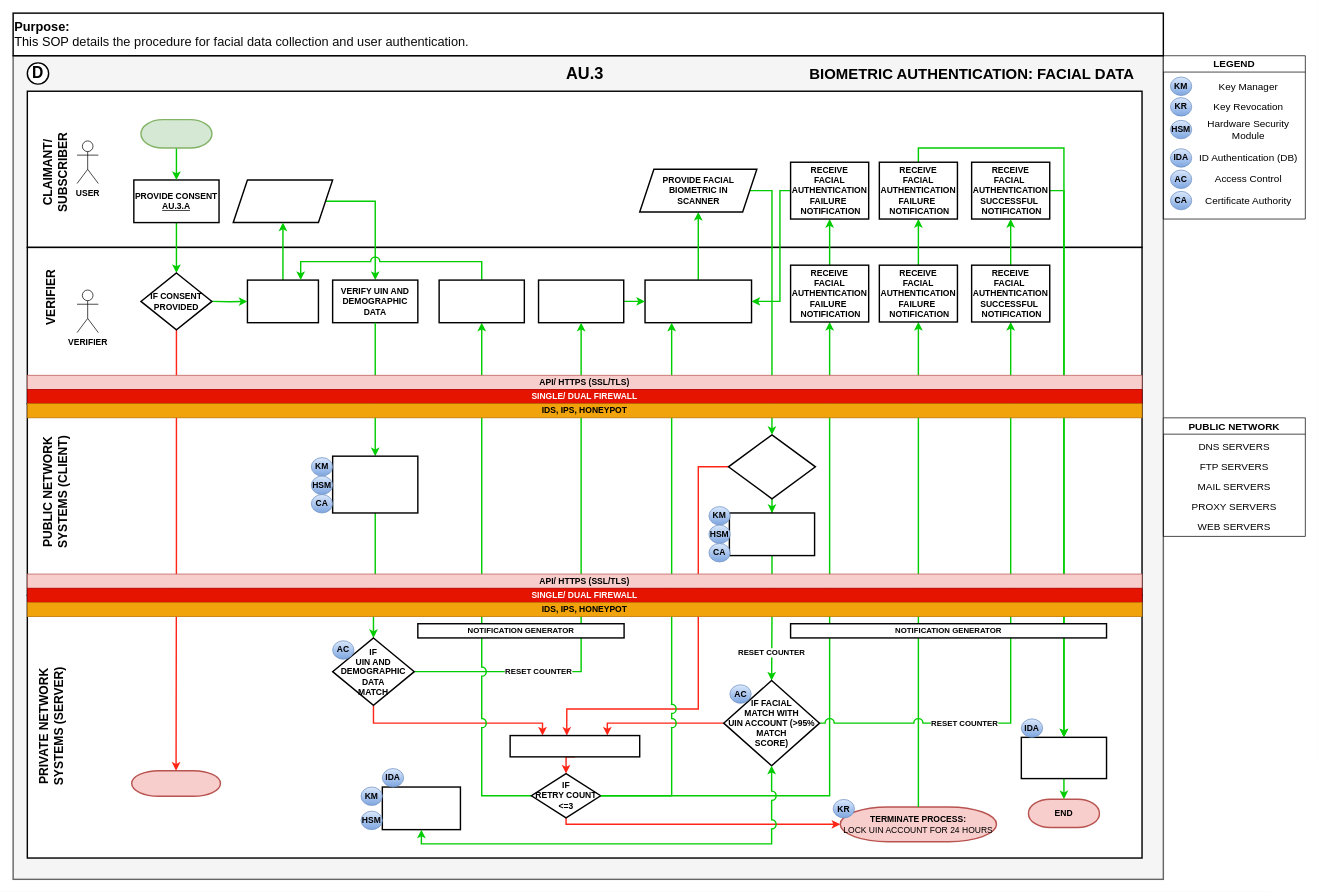
This 1318x892 diagram has some shape labels left out. The shapes that lost their labels are listed below. From the top down, each one's centre as x and y in pixels, then its label:
the point at 176,133: START (OFFLINE)
the point at 282,201: PROVIDE UIN AND DEMOGRAPHIC DATA
the point at 282,301: REQUEST UIN AND DEMOGRAPHIC DATA
the point at 481,301: RECEIVE VERIFICATION FAILURE STATUS
the point at 580,301: RECEIVE VERIFICATION SUCCESSFUL STATUS
the point at 698,301: REQUEST FACIAL BIOMETRICS IN SCANNER
the point at 375,484: MASK & ENCRYPT UIN AND DEMOGRAPHIC DATA FOR AUTHENTICATION
the point at 771,466: IF FACIAL SCANNING SUCCESSFUL
the point at 771,534: ENCRYPT FACIAL SCAN IMAGE FOR AUTHENTICATION
the point at 574,745: EXCEPTION AND ERROR HANDLING (COUNTER)
the point at 1063,757: LOGS THE PROCESS AND STATUS
the point at 176,783: TERMINATE PROCESS
the point at 421,808: DID DATABASE: UIN ACCOUNT
